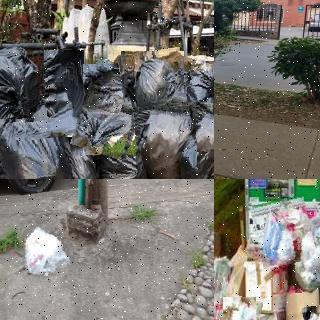Garbage: (77, 61, 147, 158), (19, 48, 87, 139), (0, 106, 83, 179), (160, 58, 214, 150), (135, 102, 197, 179), (253, 197, 314, 267), (119, 49, 186, 111), (0, 40, 44, 119), (92, 128, 159, 179), (19, 220, 75, 280), (285, 231, 320, 291), (178, 122, 214, 179), (0, 91, 22, 179), (214, 250, 231, 320), (219, 295, 259, 320)
